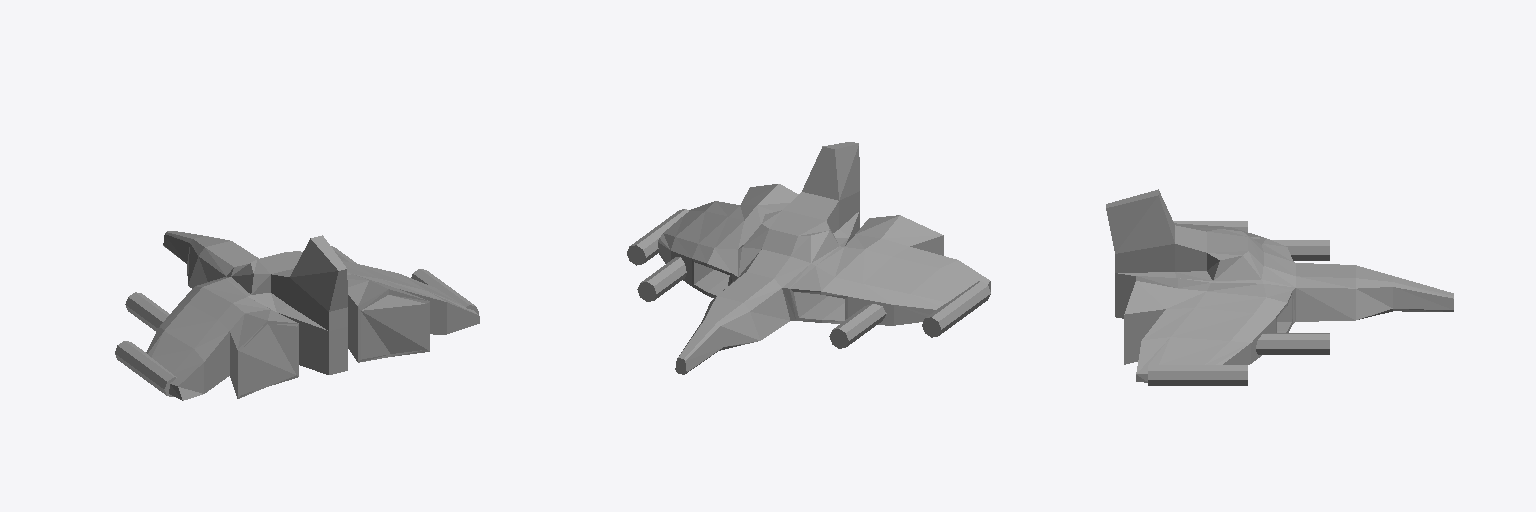
Rendered from ship4objlo.obj.
The picture shows the model from 3 angles: view 1: azimuth 30°, elevation 25°; view 2: azimuth 150°, elevation 25°; view 3: azimuth 270°, elevation 25°; orthographic projection.
Visible parts, largest first — view 1: Cube.001_Cube.000; view 2: Cube.001_Cube.000; view 3: Cube.001_Cube.000.
Boxes of the visible parts, box(x1,y1,x2,y2) form: Cube.001_Cube.000: box(115, 231, 479, 400); Cube.001_Cube.000: box(627, 142, 990, 374); Cube.001_Cube.000: box(1106, 189, 1453, 385).
Size of the model in its own units: 26.13 by 10.09 by 25.03.